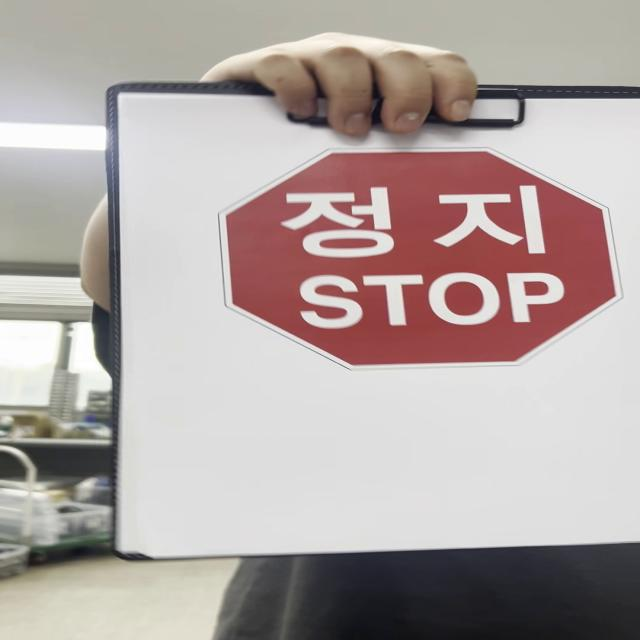stop: (219, 148, 624, 374)
